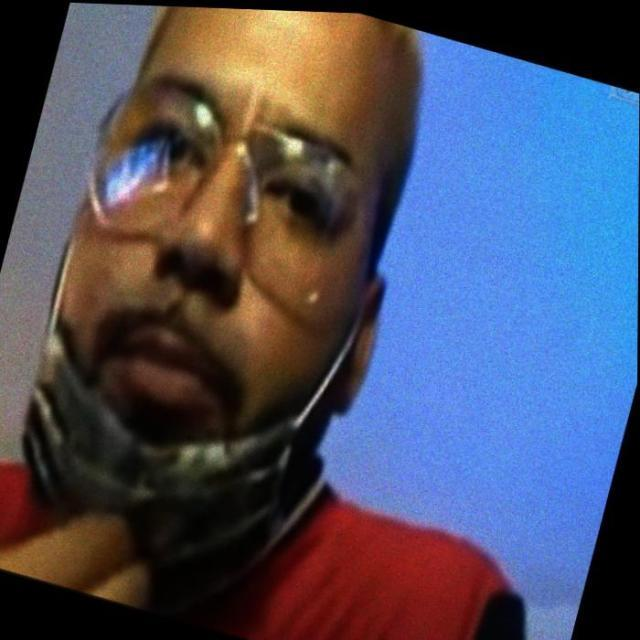hairnet: (4, 46, 404, 563)
